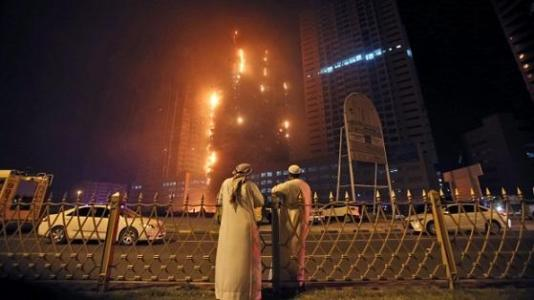fire: (234, 47, 246, 74), (207, 92, 224, 108)
